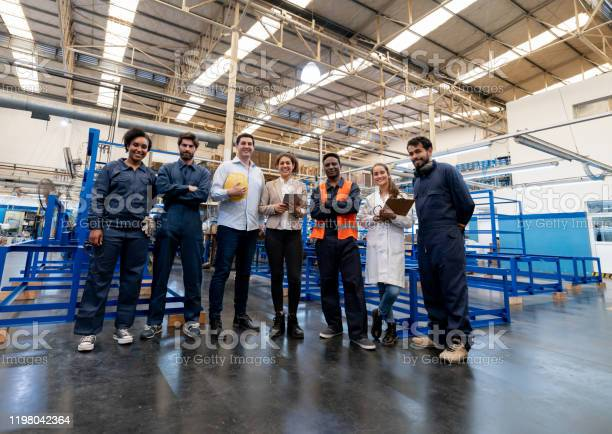person: (71, 129, 152, 350), (407, 138, 476, 361), (150, 132, 212, 338), (208, 133, 267, 335), (311, 155, 372, 350), (357, 165, 414, 349), (258, 153, 308, 337)
